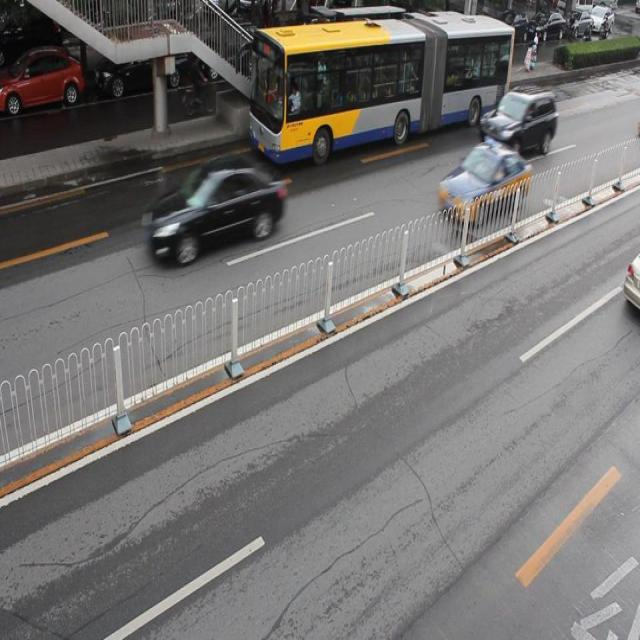car: (146, 156, 285, 264), (438, 139, 530, 222), (1, 47, 85, 114), (96, 35, 189, 95), (197, 17, 264, 79), (277, 17, 344, 70)
truck: (478, 83, 557, 156)
van: (251, 9, 512, 166)
